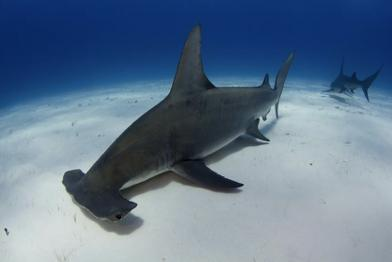Shark -Selachimorpha-: (61, 21, 301, 222), (322, 57, 384, 101)
